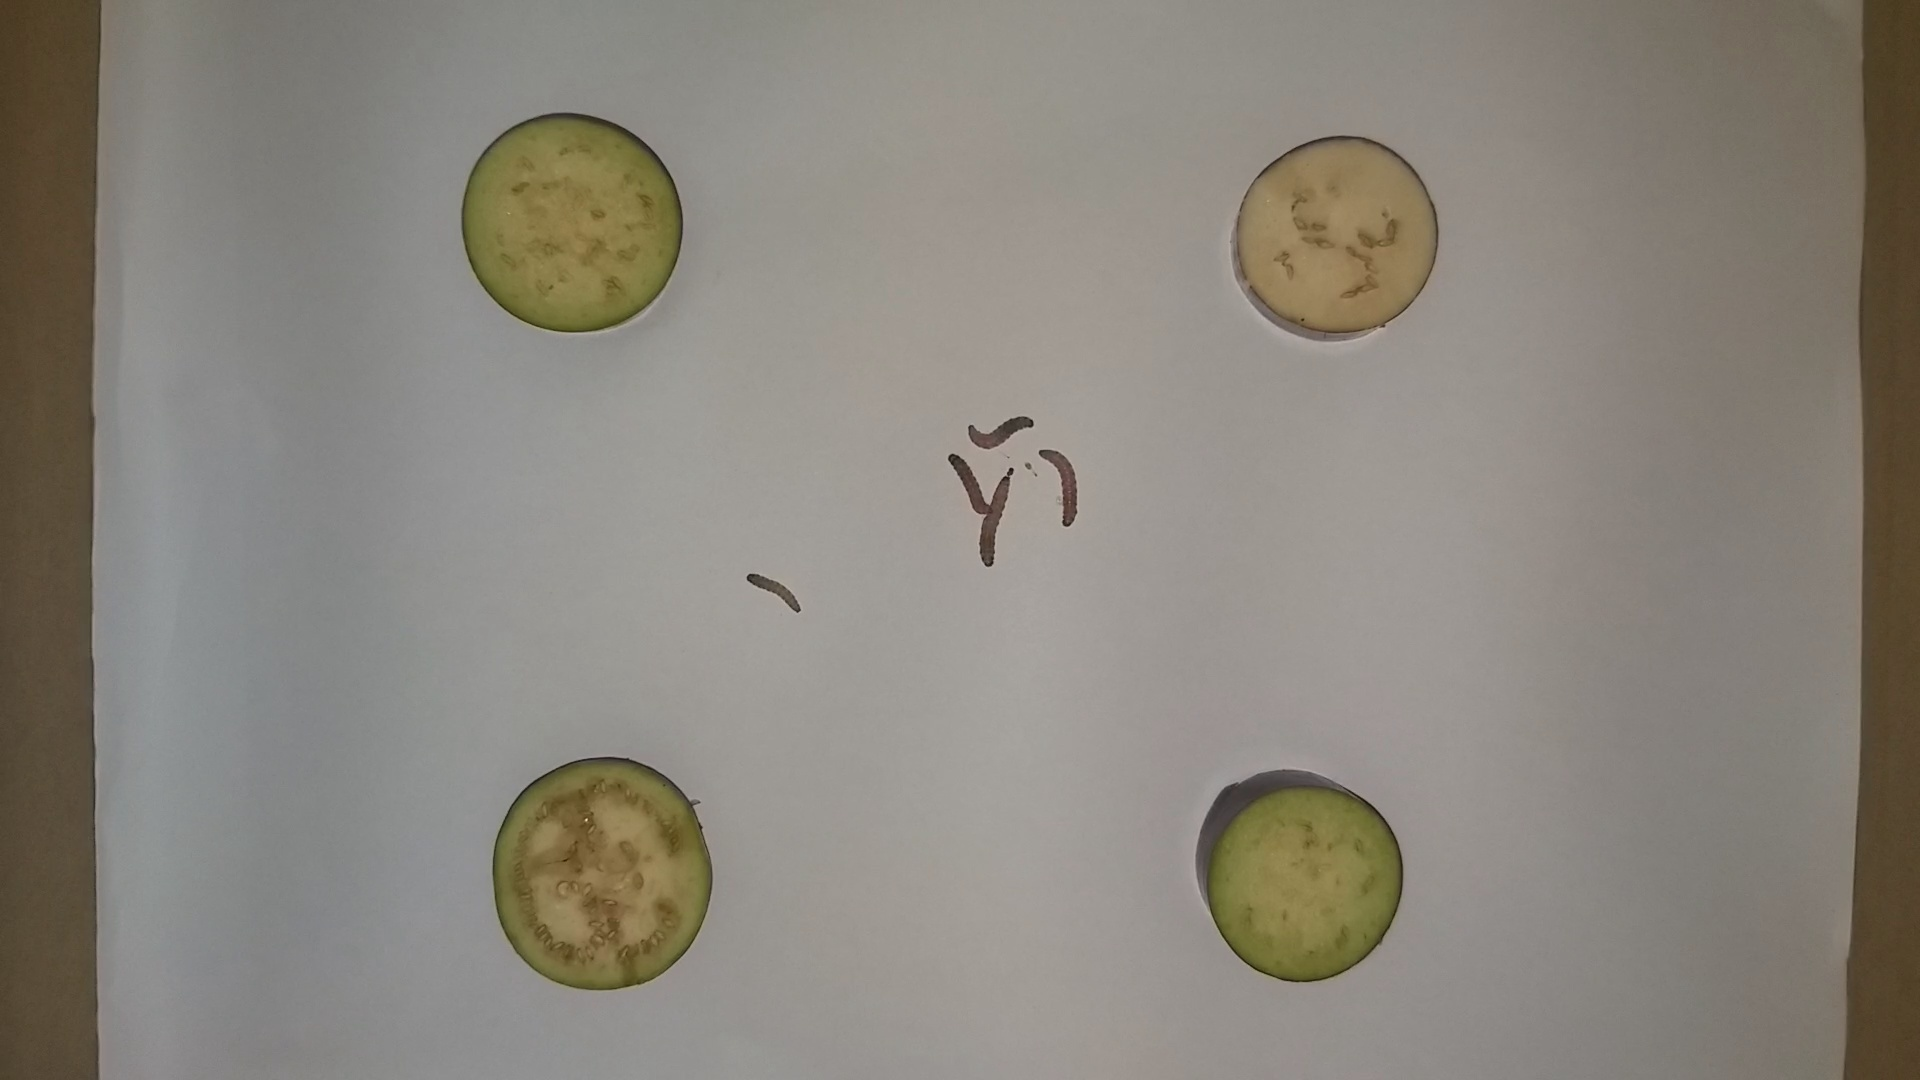efsb: (1036, 446, 1087, 531), (944, 451, 994, 517), (738, 570, 808, 615), (963, 411, 1043, 448), (977, 475, 1007, 572)
eggplant: (483, 750, 719, 1001), (454, 105, 686, 342), (1191, 760, 1407, 992), (1221, 127, 1441, 352)
